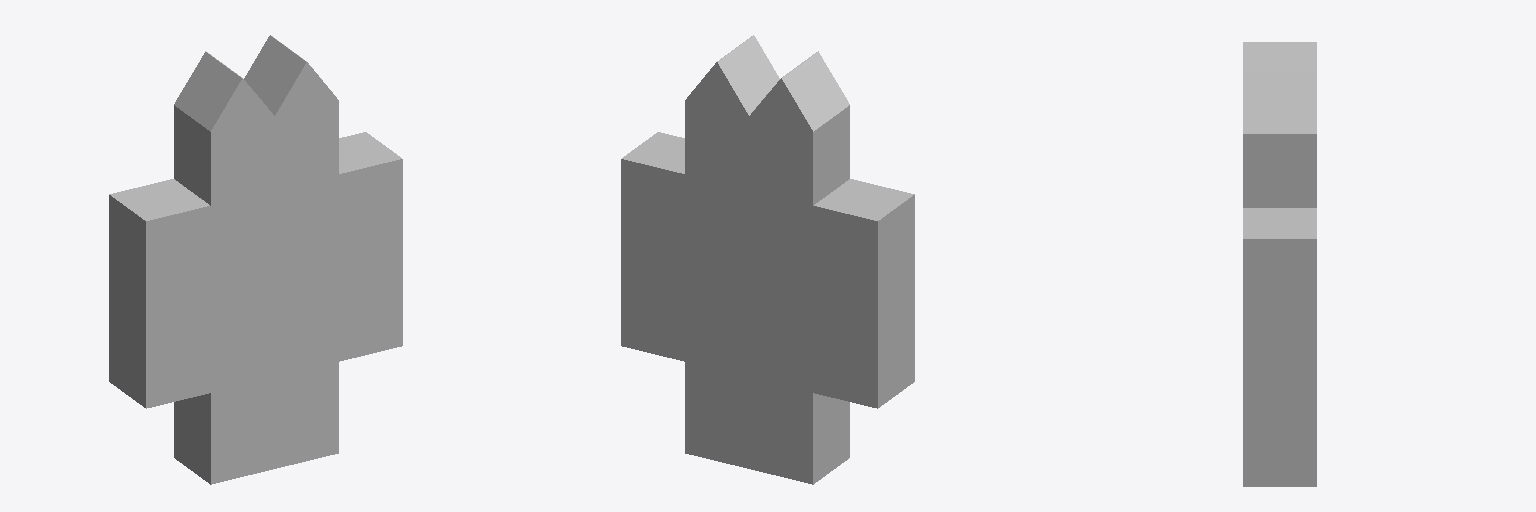
File: simple.obj
The picture shows the model from 3 angles: view 1: azimuth 30°, elevation 25°; view 2: azimuth 150°, elevation 25°; view 3: azimuth 270°, elevation 25°; orthographic projection.
Parts seen in each view (by area): view 1: Cube; view 2: Cube; view 3: Cube.
Boxes of the visible parts, x1=… form: Cube: x1=109, y1=35, x2=402, y2=484; Cube: x1=621, y1=35, x2=914, y2=484; Cube: x1=1243, y1=42, x2=1316, y2=486.
Size of the model in its own units: 2.87 by 4.26 by 0.7137.